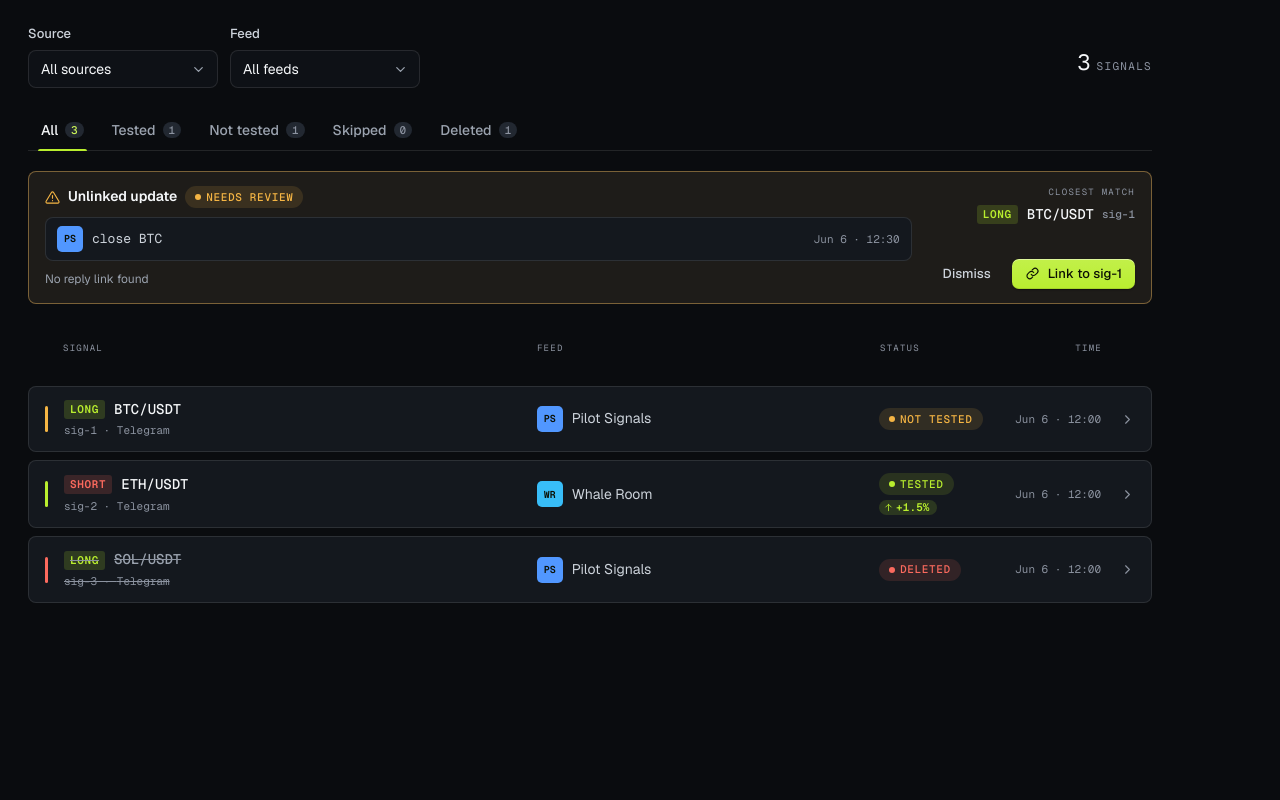
Test: SignalsView › links an orphan update and keeps the active filters
Expected: the text "Unlinked update" is shown, [68,186,177,208]
Select "Pilot Signals" in the dropdown labelled "Feed" at (325, 69), box [230,50,420,88]
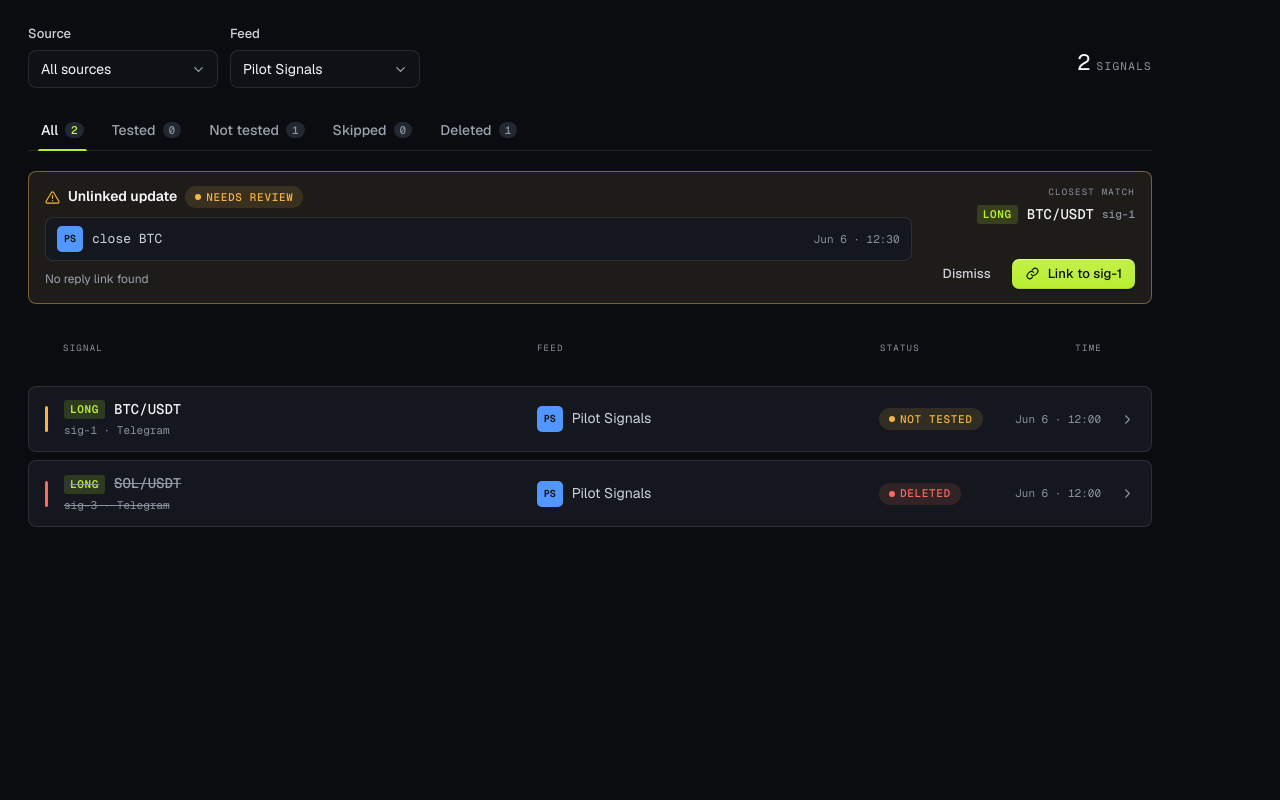
Click the button "Link to sig-1" at (1073, 274), box [1012,259,1135,289]
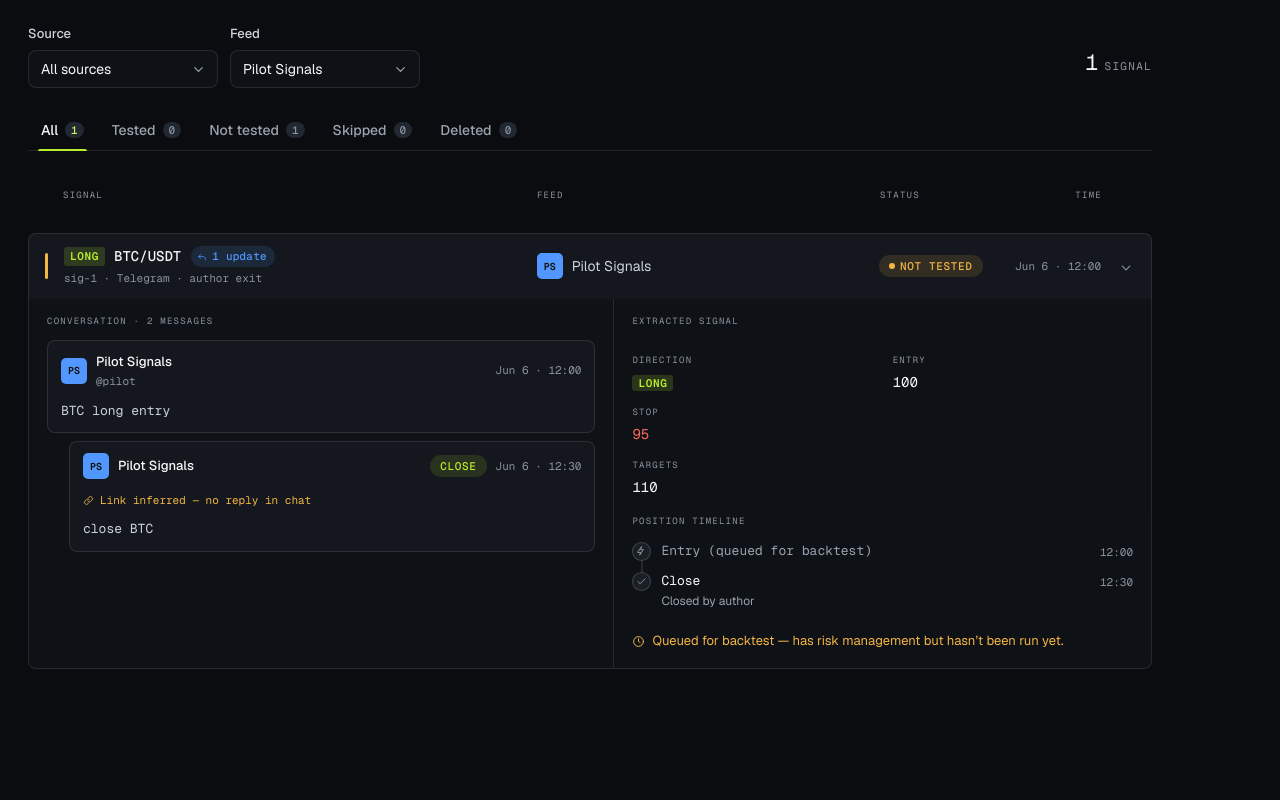
Now the text "Closed by author" is shown, box [661,593,754,609]
